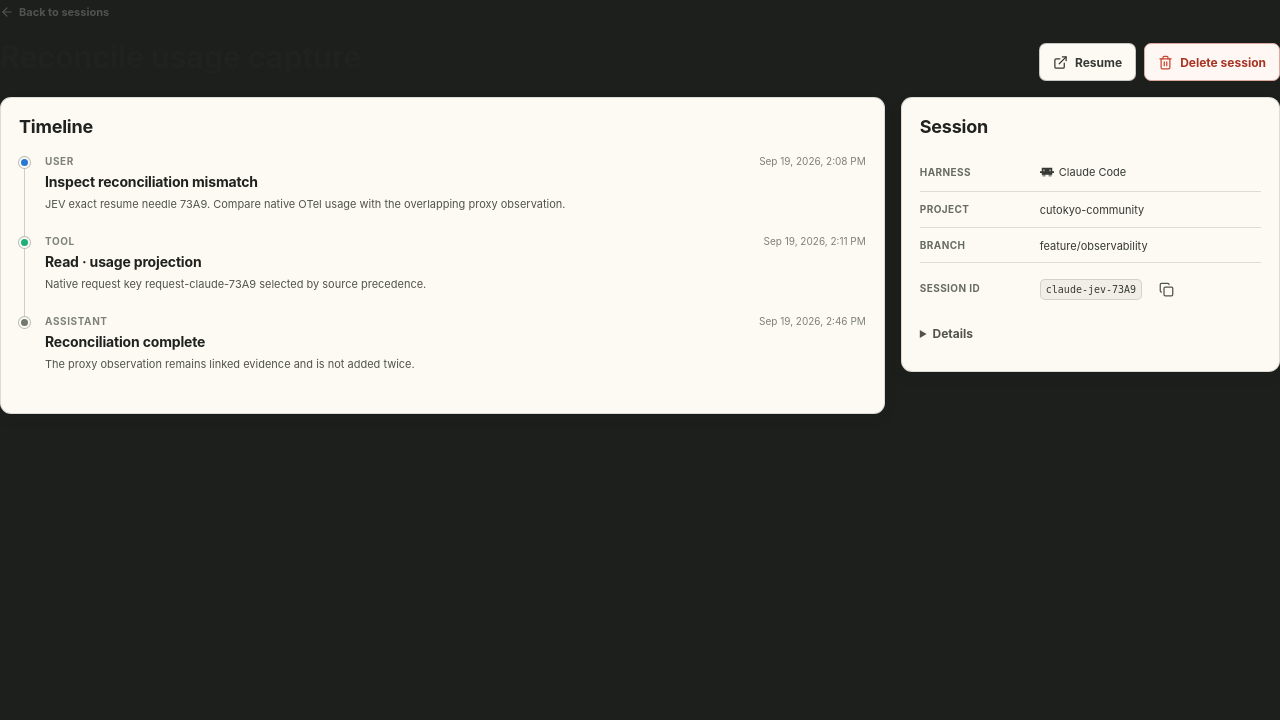
Scenario: desktop route components › dismisses a failed resume with Close dialog, restores focus and clears the next preview
This screenshot has width=1280, height=720.
Click the button "Resume".
click(1088, 62)  # box x1=1039 y1=43 x2=1136 y2=81
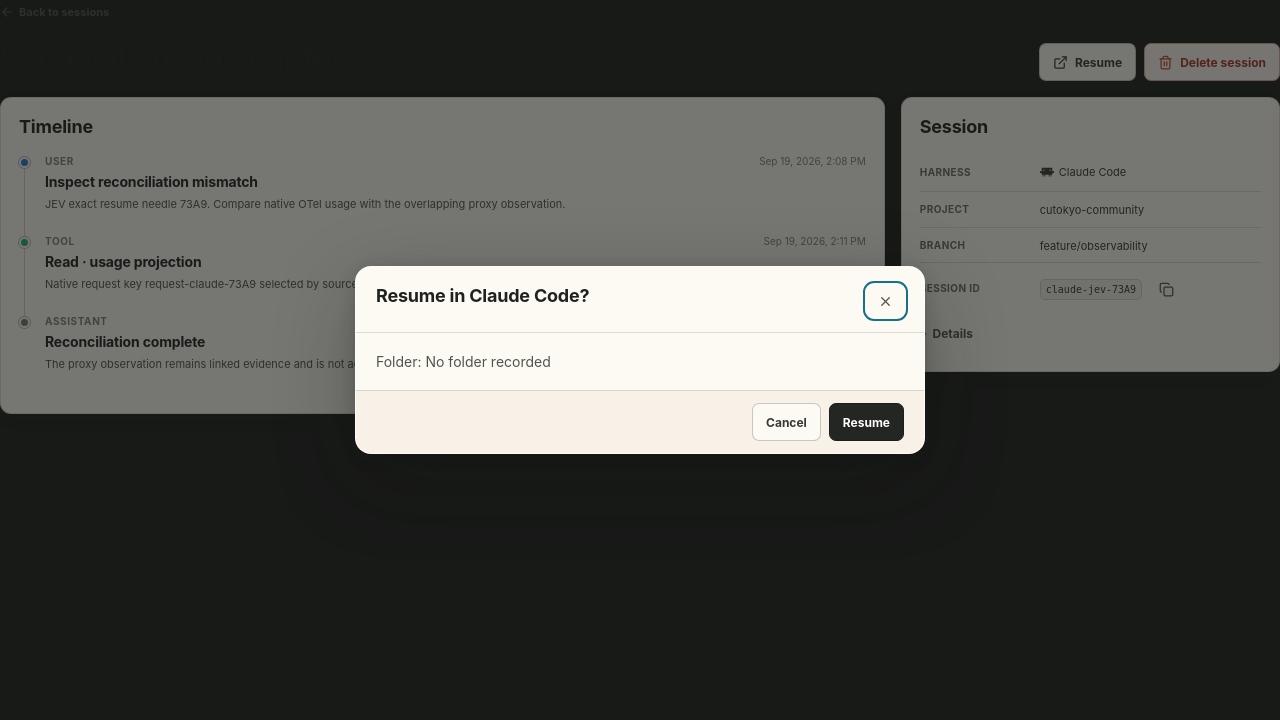
Result: the text "Folder: No folder recorded" is shown at x1=376 y1=353 x2=551 y2=370
Click the button "Resume".
click(866, 422)  # box x1=829 y1=403 x2=904 y2=441
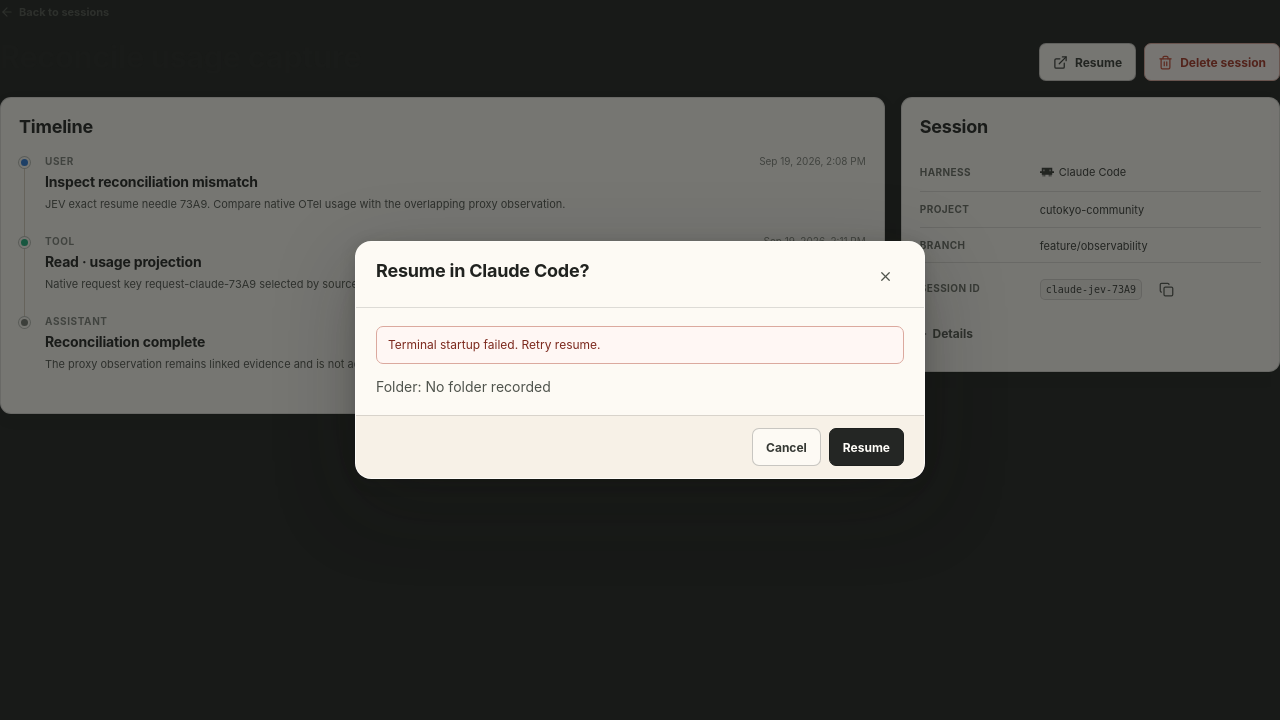
Result: the message "Terminal startup failed. Retry resume." is shown at x1=376 y1=326 x2=904 y2=364
Click the button named "Close dialog".
click(886, 276)  # box x1=867 y1=260 x2=904 y2=292
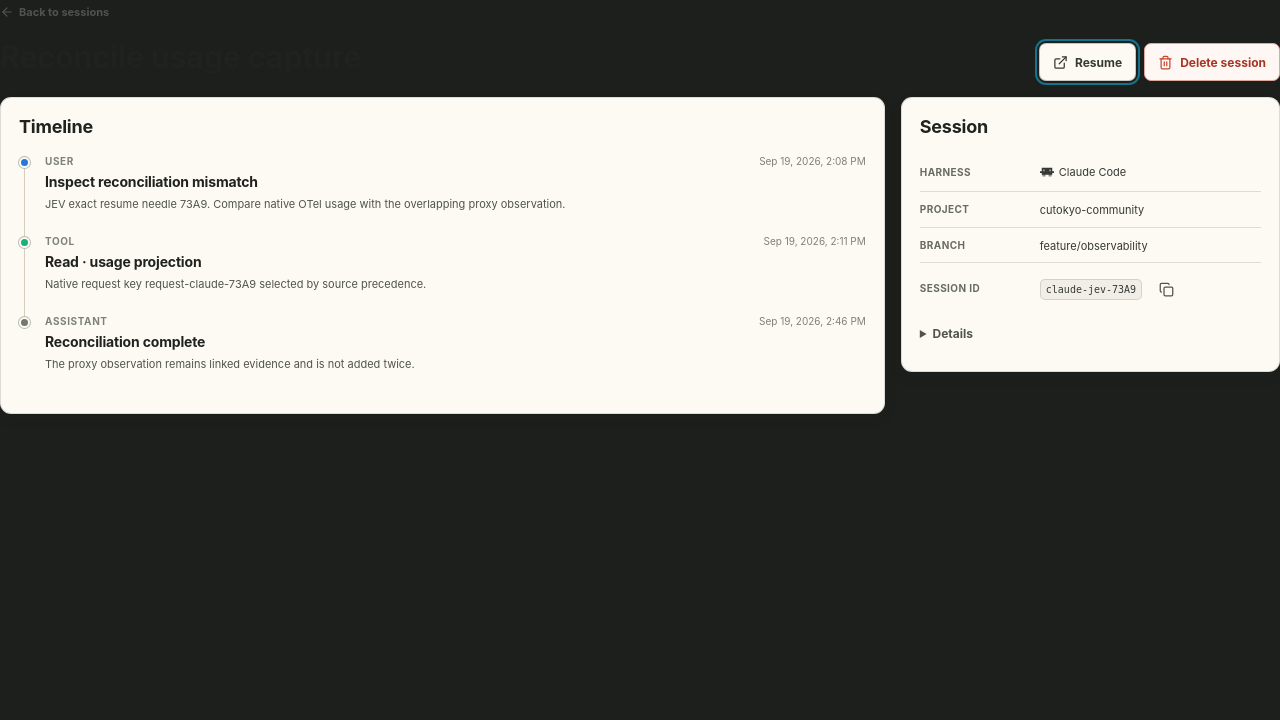
Result: the dialog is gone
Result: the message "Terminal startup failed. Retry resume." is gone
Click the button "Resume".
click(1088, 62)  # box x1=1039 y1=43 x2=1136 y2=81
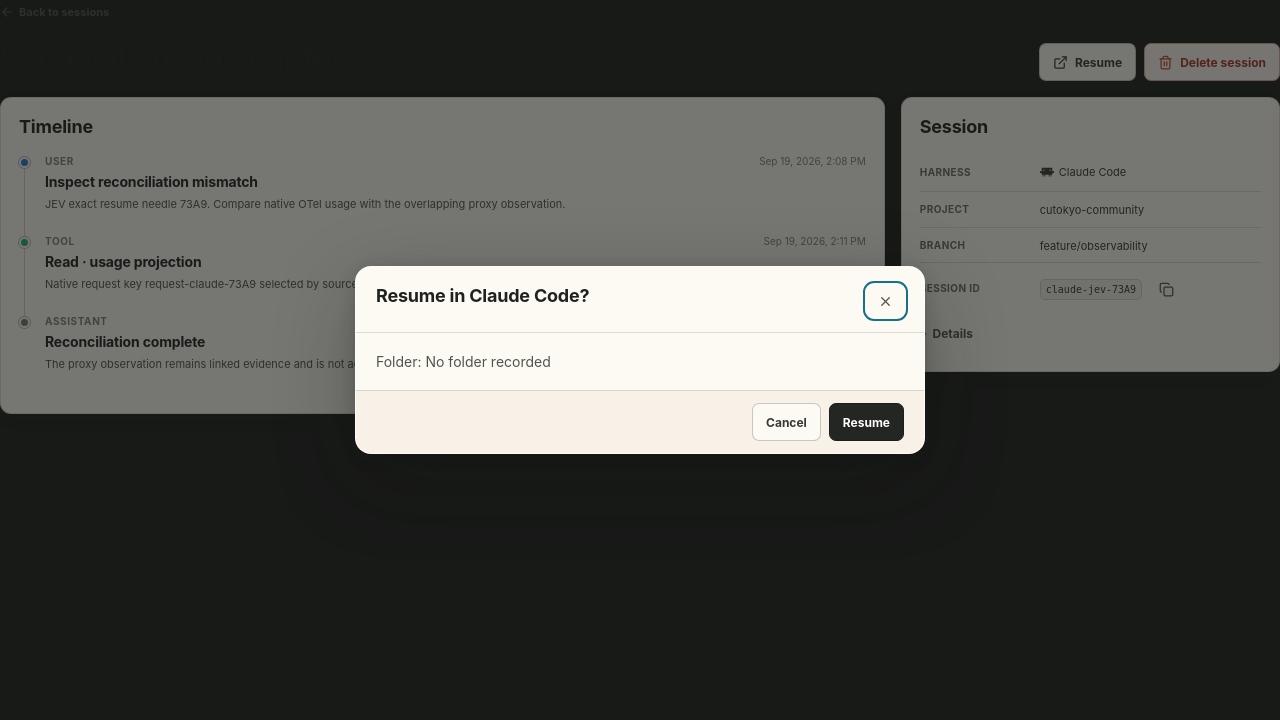
Expected: the message "Terminal startup failed. Retry resume." is not shown
Result: the text "Folder: No folder recorded" is shown at x1=376 y1=353 x2=551 y2=370
